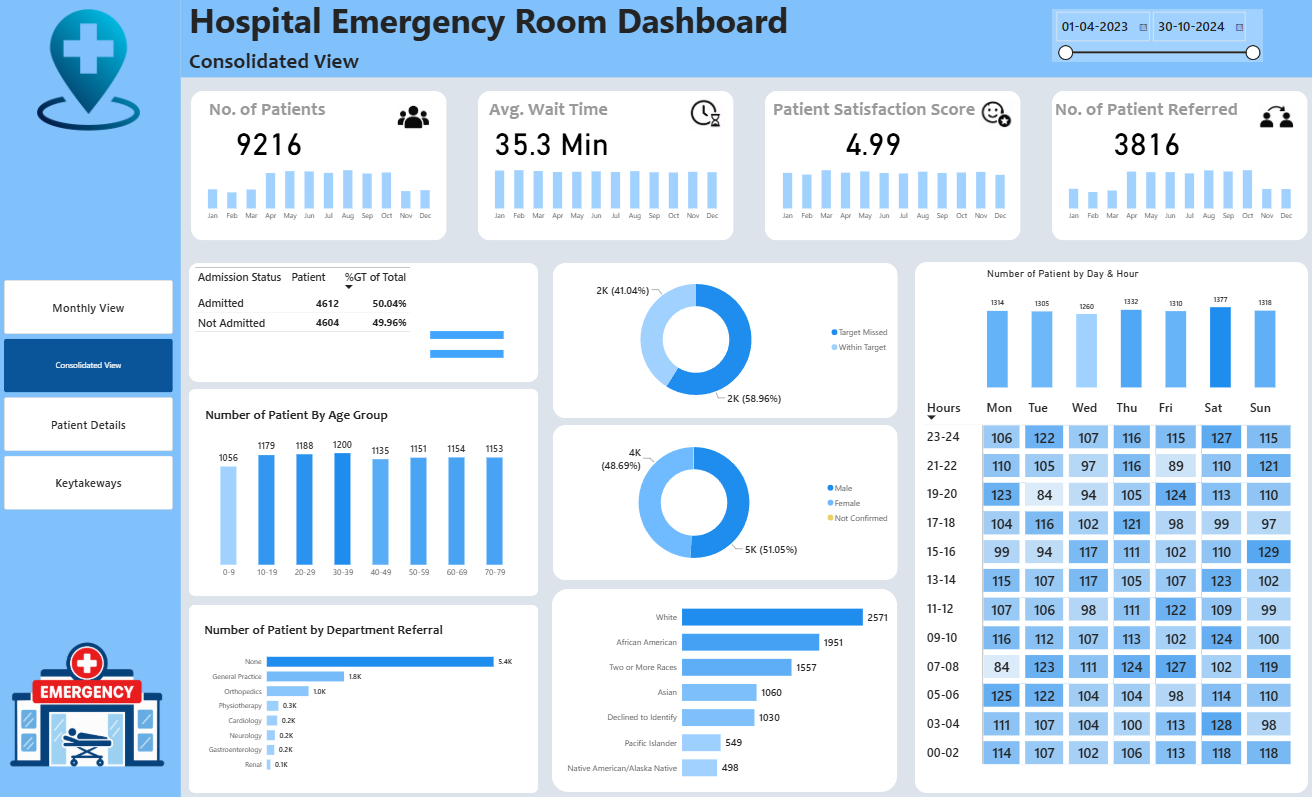

Layout of this report page (visuals, bound fields, positions):
{"tool":"powerbi","page":{"name":"Consolidated View","canvas":[2300,1400],"ordinal":1},"visuals":[{"type":"shape","box":[0,0,320.4,1400],"z":0},{"type":"shape","box":[319.8,0,1980.2,140],"z":1000},{"type":"textbox","box":[333.8,0,1101.1,87.4],"z":2000},{"type":"textbox","box":[334.3,87.1,391.8,47],"z":3000},{"type":"slicer","fields":{"Values":["Date Table.Date"]},"box":[1837.1,20.9,365.7,90.5],"z":4000},{"type":"shape","box":[337.8,163.7,445,260],"z":5000},{"type":"cardVisual","fields":{"Data":["Hospital ER_Data.Number of Patient"]},"box":[398.8,215.9,174.1,78.4],"z":6000},{"type":"textbox","box":[369.2,175.9,221.1,55.7],"z":7000},{"type":"columnChart","fields":{"Category":["Date Table.Month Name"],"Y":["Hospital ER_Data.Number of Patient"]},"box":[337.8,278.6,445.8,130.6],"z":8000},{"type":"shape","box":[837.6,163.7,445,260],"z":9000},{"type":"shape","box":[1337.3,163.7,445,260],"z":10000},{"type":"shape","box":[1837.1,163.7,445,260],"z":11000},{"type":"textbox","box":[856.7,175.9,221.1,55.7],"z":12000},{"type":"cardVisual","fields":{"Data":["Hospital ER_Data.Avg Wait Time"]},"box":[849.8,215.9,235.1,78.4],"z":13000},{"type":"columnChart","fields":{"Category":["Date Table.Month Name"],"Y":["Avg(Hospital ER_Data.Patient Waittime)"]},"box":[837.6,278.6,445.8,130.6],"z":14000},{"type":"textbox","box":[1351.2,175.9,419.7,55.7],"z":15000},{"type":"cardVisual","fields":{"Data":["Hospital ER_Data.Satisfaction Score"]},"box":[1460.9,215.9,137.6,78.4],"z":16000},{"type":"columnChart","fields":{"Category":["Date Table.Month Name"],"Y":["Hospital ER_Data.Satisfaction Score"]},"box":[1339.1,278.6,445.8,130.6],"z":17000},{"type":"textbox","box":[1842.3,175.9,440.5,55.7],"z":18000},{"type":"cardVisual","fields":{"Data":["Hospital ER_Data.No. of Patient Referred"]},"box":[1927.6,215.9,161.9,78.4],"z":19000},{"type":"columnChart","fields":{"Category":["Date Table.Month Name"],"Y":["Hospital ER_Data.No. of Patient Referred"]},"box":[1837.1,278.6,445.8,130.6],"z":20000},{"type":"shape","box":[334.3,463.2,607.7,207.2],"z":21000},{"type":"pivotTable","title":"Patient Admission Status","fields":{"Rows":["Hospital ER_Data.Admission Status"],"Values":["Hospital ER_Data.Number of Patient1","Hospital ER_Data.Number of Patient"]},"box":[344.8,470.1,579.9,193.3],"z":22000},{"type":"barChart","fields":{"Category":["Hospital ER_Data.Admission Status"],"Y":["Hospital ER_Data.Number of Patient"]},"box":[738.3,543.3,198.5,120.1],"z":23000},{"type":"shape","box":[334.3,682.6,607.7,360.4],"z":24000},{"type":"clusteredColumnChart","title":"Number of Patient By Age Group","fields":{"Category":["Hospital ER_Data.Age Group"],"Y":["Hospital ER_Data.Number of Patient"]},"box":[346.5,698.3,578.1,334.3],"z":25000},{"type":"shape","box":[334.3,1058.7,607.7,327.4],"z":26000},{"type":"clusteredBarChart","fields":{"Category":["Hospital ER_Data.Department Referral"],"Y":["Hospital ER_Data.Number of Patient"]},"box":[344.8,1072.6,579.9,299.5],"z":27000},{"type":"shape","box":[968.2,463.2,600,270],"z":28000},{"type":"donutChart","title":"% of Patient Seen Within 30 Min","fields":{"Category":["Hospital ER_Data.Wait Time Status"],"Y":["Hospital ER_Data.No. of Patient Referred"]},"box":[982.1,470.1,578.1,252.5],"z":29000},{"type":"shape","box":[968.2,745.3,600,270],"z":30000},{"type":"donutChart","title":"No. Patient By Gender","fields":{"Category":["Hospital ER_Data.Patient Gender"],"Y":["Hospital ER_Data.Number of Patient"]},"box":[982.1,754,578.1,252.5],"z":31000},{"type":"shape","box":[966.4,1030.8,600.7,353.5],"z":32000},{"type":"clusteredBarChart","fields":{"Category":["Hospital ER_Data.Patient Race"],"Y":["Hospital ER_Data.Number of Patient"]},"box":[976.9,1039.6,583.3,336.1],"z":33000},{"type":"shape","box":[1598.5,461.4,684.3,924.6],"z":34000},{"type":"pivotTable","fields":{"Columns":["Date Table.Day Name"],"Rows":["Hospital ER_Data.Waittime Interval"],"Values":["Hospital ER_Data.Number of Patient"]},"box":[1598.5,680.8,684.3,689.6],"z":35000},{"type":"columnChart","title":"Number of Patient by Day  & Hour","fields":{"Category":["Date Table.Day Name"],"Y":["Hospital ER_Data.Number of Patient"]},"box":[1723.9,470.1,505,210.7],"z":36000},{"type":"image","box":[696.5,186.3,59.2,45.3],"z":37000},{"type":"image","box":[1201.5,177.6,66.2,54],"z":38000},{"type":"image","box":[1710,177.6,60.9,54],"z":39000},{"type":"image","box":[2195.8,181.1,66.2,55.7],"z":40000},{"type":"image","box":[24.4,20.9,269.9,212.4],"z":41000},{"type":"pageNavigator","box":[12.2,369.2,294.3,294.3],"z":42000},{"type":"image","box":[7,1086.6,300,300],"z":42001}]}

Visuals, with their boxes in screenshot pixels (x1, y1, x2, y2), scaled from the page's 2300x1400 canvas onto the 1312x797 screenshot:
shape: <box>0,0,183,796</box>
shape: <box>182,0,1311,80</box>
textbox: <box>190,0,819,50</box>
textbox: <box>191,50,414,76</box>
slicer - Date Table.Date: <box>1048,12,1257,63</box>
shape: <box>193,93,447,241</box>
cardVisual - Hospital ER_Data.Number of Patient: <box>227,123,327,168</box>
textbox: <box>211,100,337,132</box>
columnChart - Date Table.Month Name x Hospital ER_Data.Number of Patient: <box>193,159,447,233</box>
shape: <box>478,93,732,241</box>
shape: <box>763,93,1017,241</box>
shape: <box>1048,93,1302,241</box>
textbox: <box>489,100,615,132</box>
cardVisual - Hospital ER_Data.Avg Wait Time: <box>485,123,619,168</box>
columnChart - Date Table.Month Name x Avg(Hospital ER_Data.Patient Waittime): <box>478,159,732,233</box>
textbox: <box>771,100,1010,132</box>
cardVisual - Hospital ER_Data.Satisfaction Score: <box>833,123,912,168</box>
columnChart - Date Table.Month Name x Hospital ER_Data.Satisfaction Score: <box>764,159,1018,233</box>
textbox: <box>1051,100,1302,132</box>
cardVisual - Hospital ER_Data.No. of Patient Referred: <box>1100,123,1192,168</box>
columnChart - Date Table.Month Name x Hospital ER_Data.No. of Patient Referred: <box>1048,159,1302,233</box>
shape: <box>191,264,537,382</box>
"Patient Admission Status" pivotTable: <box>197,268,527,378</box>
barChart - Hospital ER_Data.Admission Status x Hospital ER_Data.Number of Patient: <box>421,309,534,378</box>
shape: <box>191,389,537,594</box>
"Number of Patient By Age Group" clusteredColumnChart: <box>198,398,527,588</box>
shape: <box>191,603,537,789</box>
clusteredBarChart - Hospital ER_Data.Department Referral x Hospital ER_Data.Number of Patient: <box>197,611,527,781</box>
shape: <box>552,264,895,417</box>
"% of Patient Seen Within 30 Min" donutChart: <box>560,268,890,411</box>
shape: <box>552,424,895,578</box>
"No. Patient By Gender" donutChart: <box>560,429,890,573</box>
shape: <box>551,587,894,788</box>
clusteredBarChart - Hospital ER_Data.Patient Race x Hospital ER_Data.Number of Patient: <box>557,592,890,783</box>
shape: <box>912,263,1302,789</box>
pivotTable - Date Table.Day Name x Hospital ER_Data.Waittime Interval: <box>912,388,1302,780</box>
"Number of Patient by Day  & Hour" columnChart: <box>983,268,1271,388</box>
image: <box>397,106,431,132</box>
image: <box>685,101,723,132</box>
image: <box>975,101,1010,132</box>
image: <box>1253,103,1290,135</box>
image: <box>14,12,168,133</box>
pageNavigator: <box>7,210,175,378</box>
image: <box>4,619,175,789</box>
